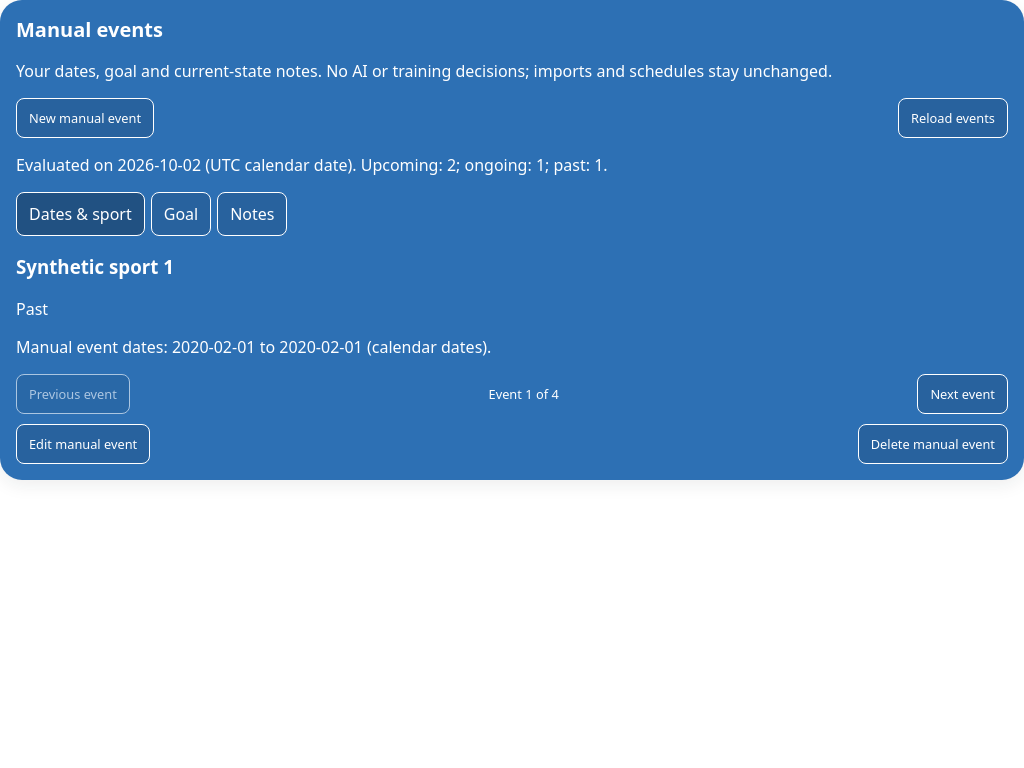
Test case: private manual event tile › mounts read-only, sorts by date/end/id and pages one card with separate ongoing, past and next-upcoming status
Expected: the heading "Synthetic sport 1" is shown, [16,254,174,279]
Expected: the text "Past" is shown, [16,298,48,320]
Click the button "Next event". click: click(963, 394)
box: [917,374,1008,414]
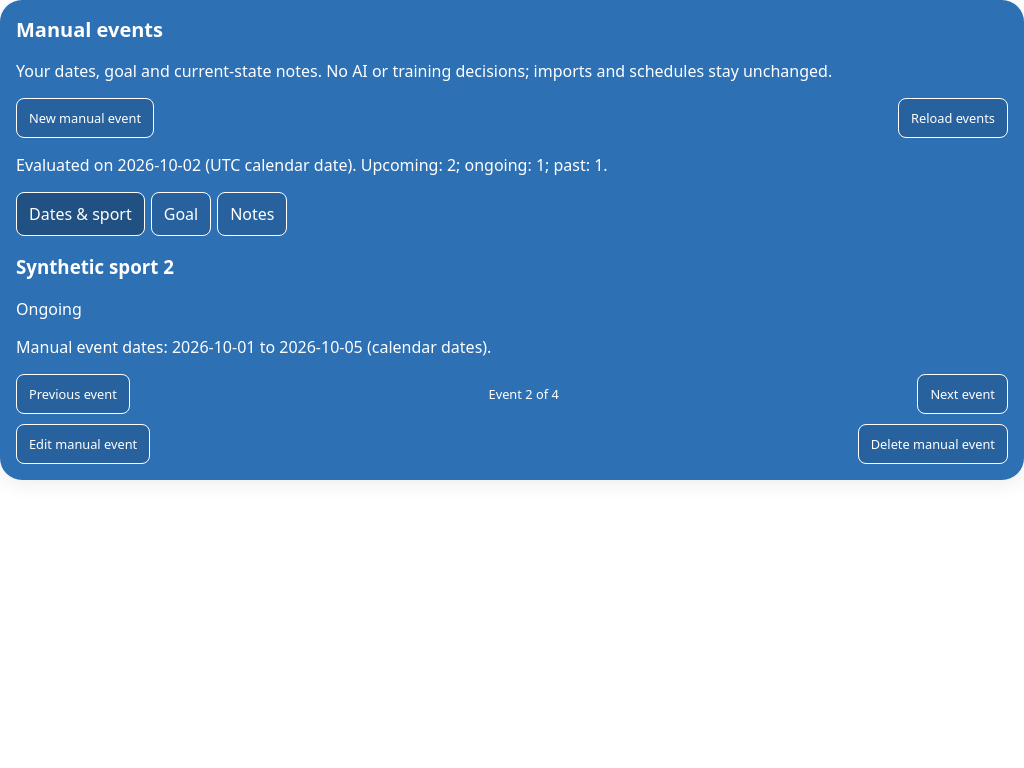
Expected: the text "Next upcoming" is not shown
Expected: the text "Ongoing" is shown, [16,298,82,320]
Click the button "Next event". click: click(963, 394)
box: [917,374,1008,414]
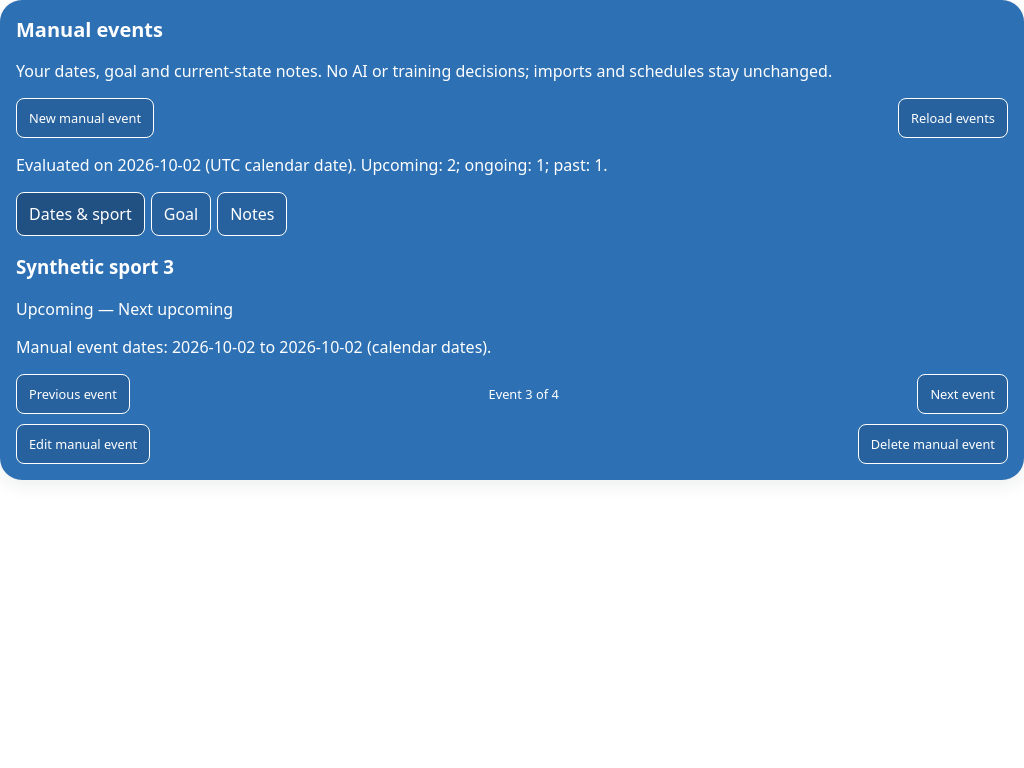
Expected: the text "Upcoming — Next upcoming" is shown, [16,298,233,320]
Click the button "Next event". click: click(963, 394)
box: [917,374,1008,414]
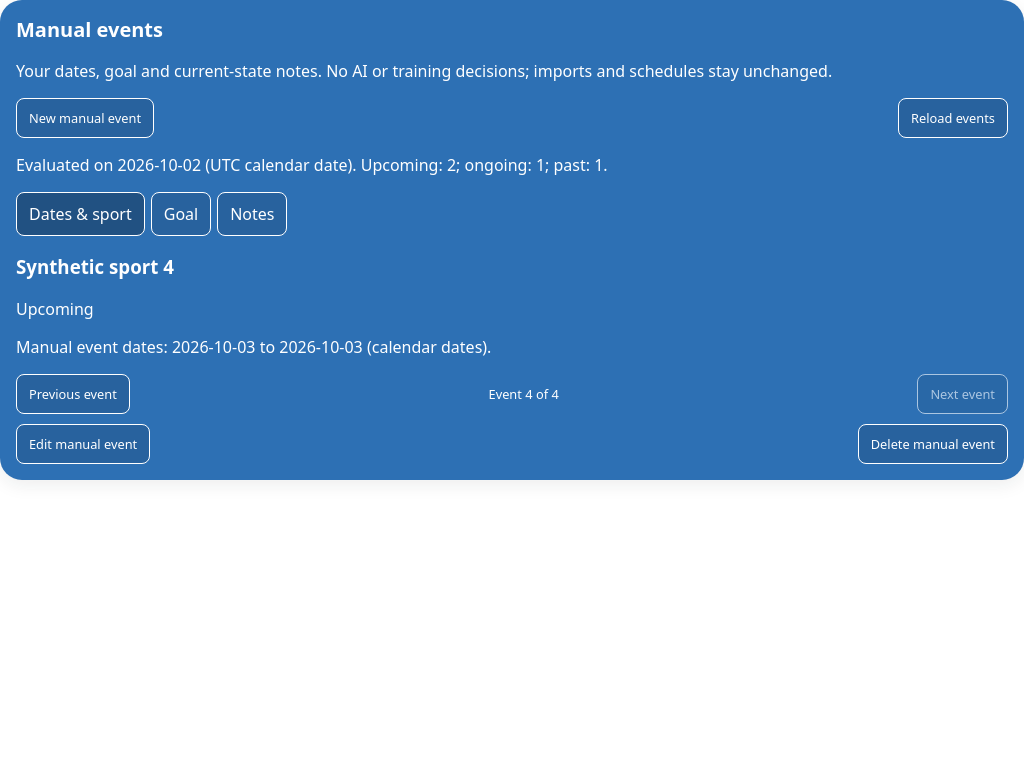
Expected: the text "Upcoming" is shown, [16,298,94,320]
Expected: the text "Next upcoming" is gone
Click the tab "Goal". click: click(181, 214)
box: [151,192,211,236]
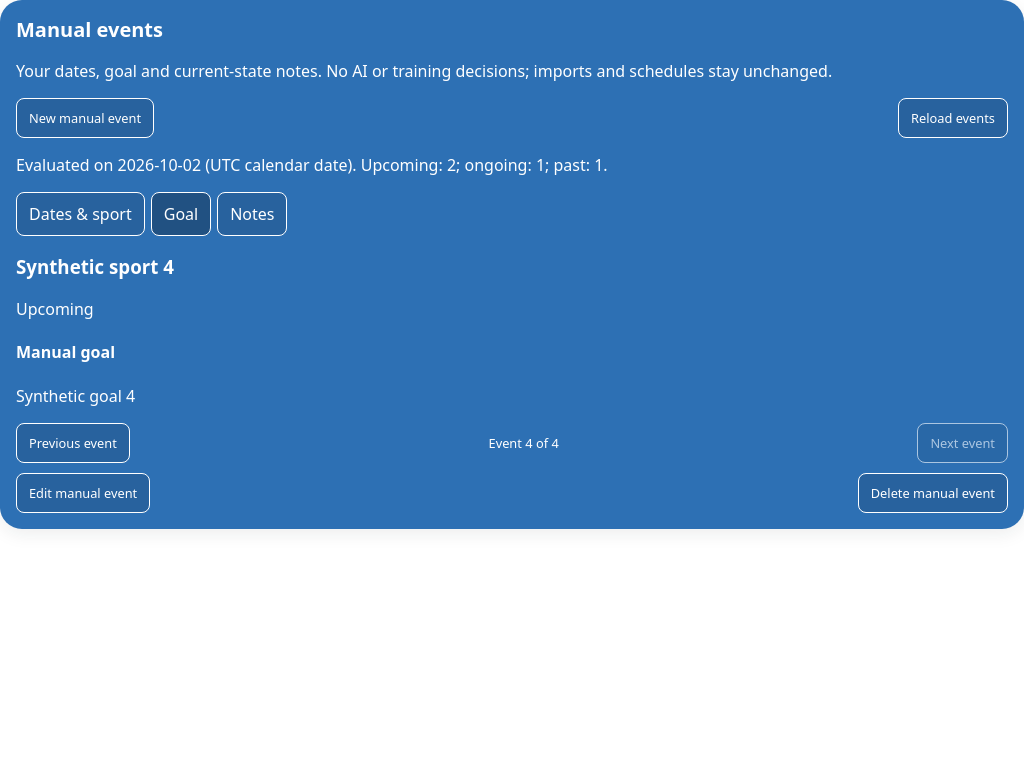
Expected: the text named "Manual goal text" reads "Synthetic goal 4", [16,385,135,407]
Click the tab "Notes". click: click(252, 214)
box: [217,192,288,236]
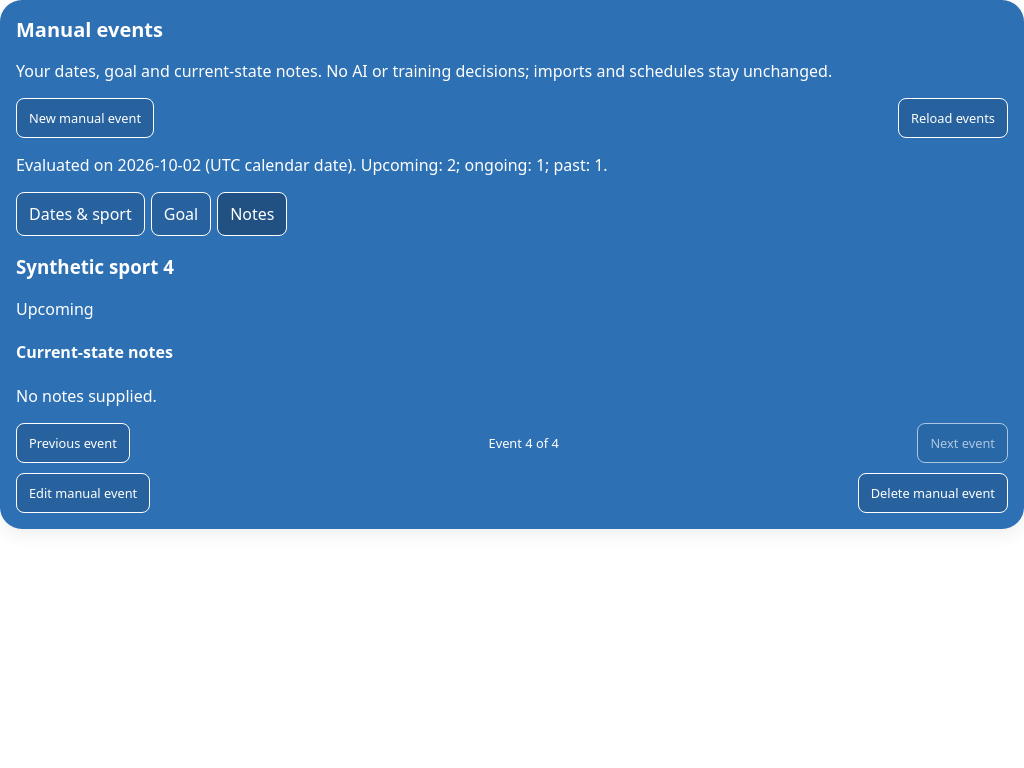
Expected: the text "No notes supplied." is shown, [16,385,157,407]
